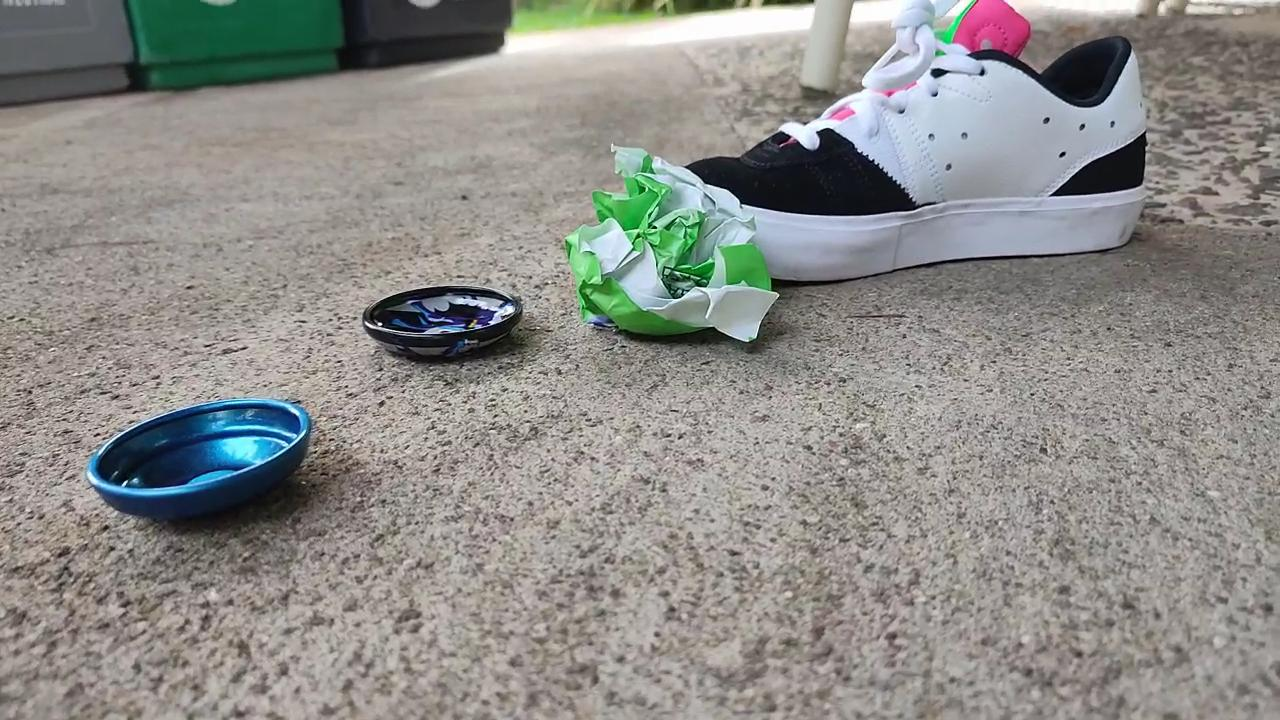Paper: (561, 136, 794, 355)
